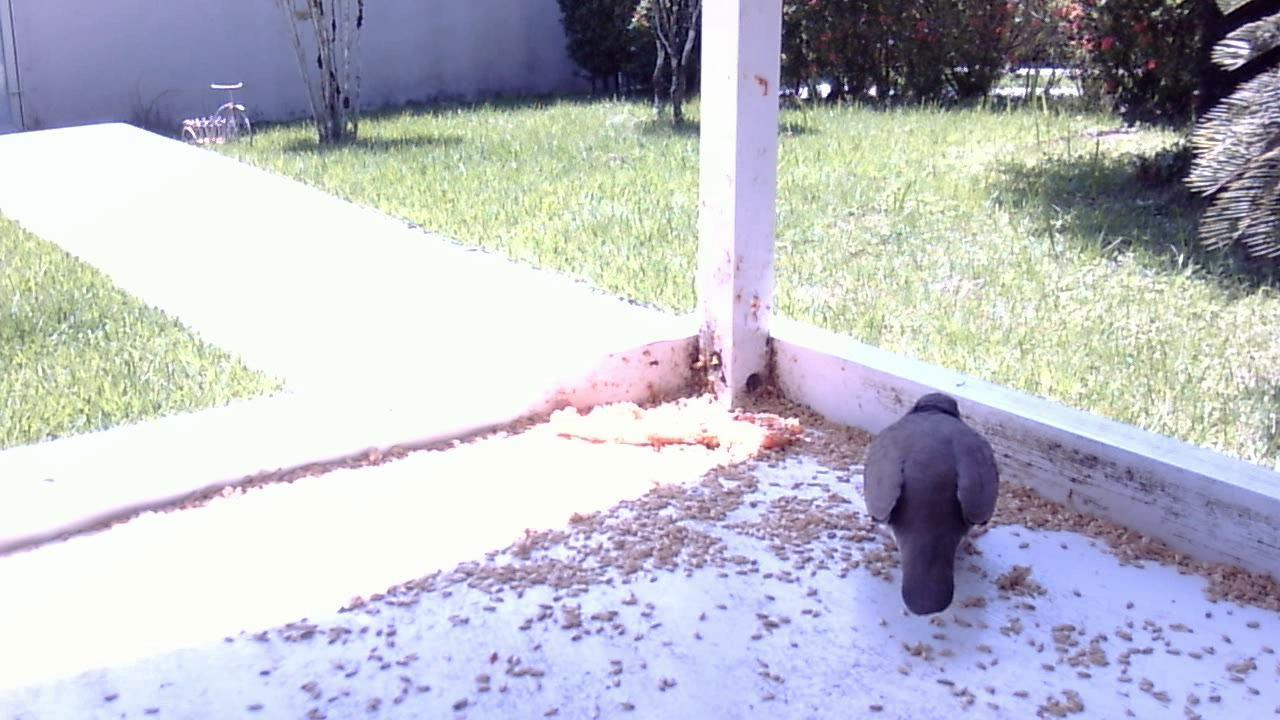rolinha: (852, 384, 1004, 622)
